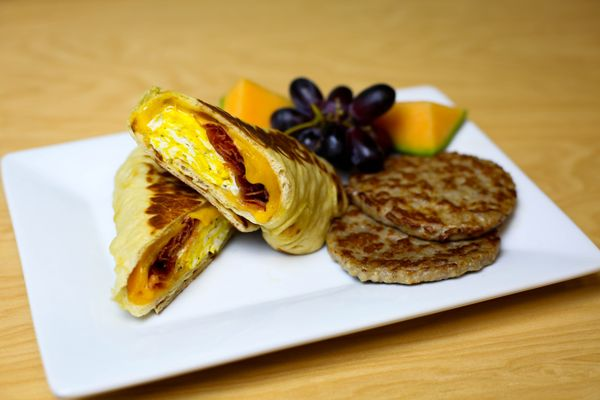pasta: (129, 88, 345, 255)
soup: (325, 149, 518, 284)
